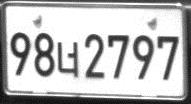2: (83, 33, 104, 79)
7: (105, 33, 129, 79), (156, 35, 180, 81)
8: (33, 32, 55, 76)
9: (132, 34, 154, 80), (9, 31, 31, 76)
너: (56, 39, 79, 79)
